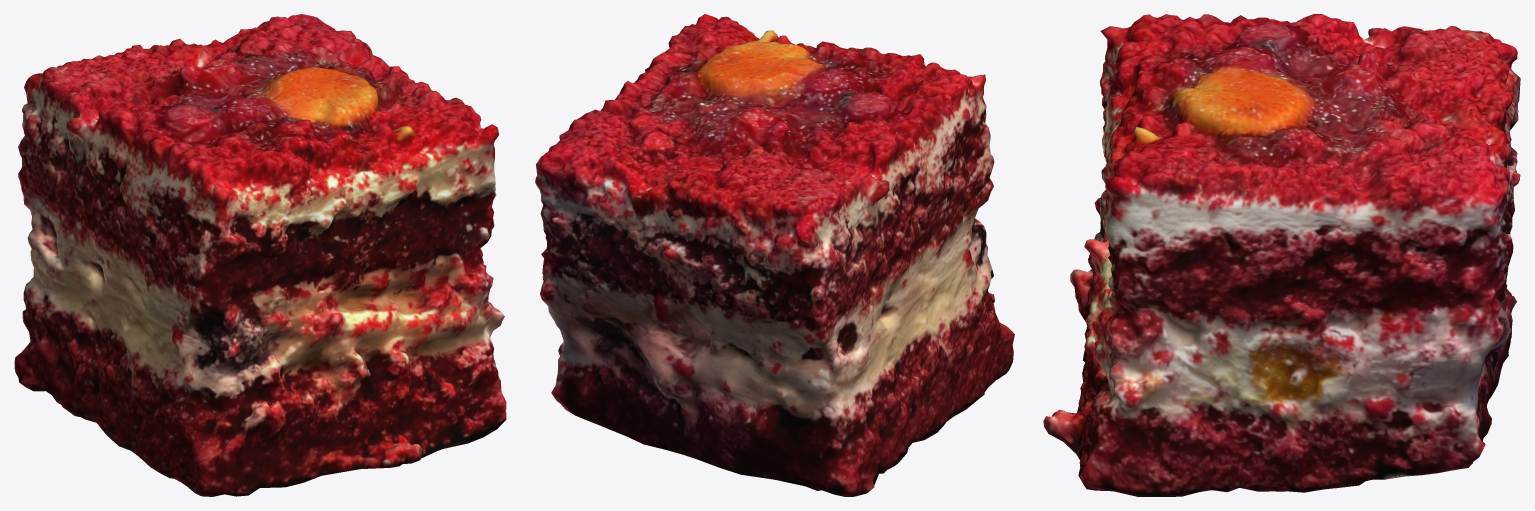
Rendered from frambuazPasta.glb.
3 renders of one model, left to right at view 1: azimuth 30°, elevation 25°; view 2: azimuth 150°, elevation 25°; view 3: azimuth 270°, elevation 25°, orthographic. The views are drawn at different scales.
Visible parts, largest first — view 1: /ObjectCapture/Geometry/Mesh; view 2: /ObjectCapture/Geometry/Mesh; view 3: /ObjectCapture/Geometry/Mesh.
Boxes of the visible parts, x1,y1,x2,y2 form: /ObjectCapture/Geometry/Mesh: [14, 14, 506, 496]; /ObjectCapture/Geometry/Mesh: [535, 14, 1014, 496]; /ObjectCapture/Geometry/Mesh: [1043, 14, 1520, 496].
Bounding box in the file's own units: 0.0626 × 0.0583 × 0.0712.
1 material, 1 textured.
